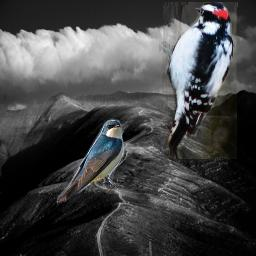Swallow: (54, 117, 127, 205)
Woodpecker: (159, 2, 238, 159)
